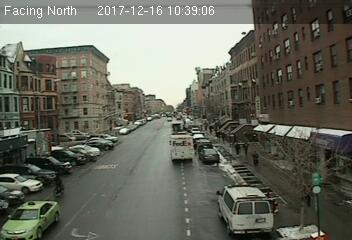bicycle: (52, 177, 65, 196)
car: (2, 199, 58, 240), (199, 149, 221, 163)
police: (216, 183, 274, 237)
truck: (168, 134, 195, 163)
